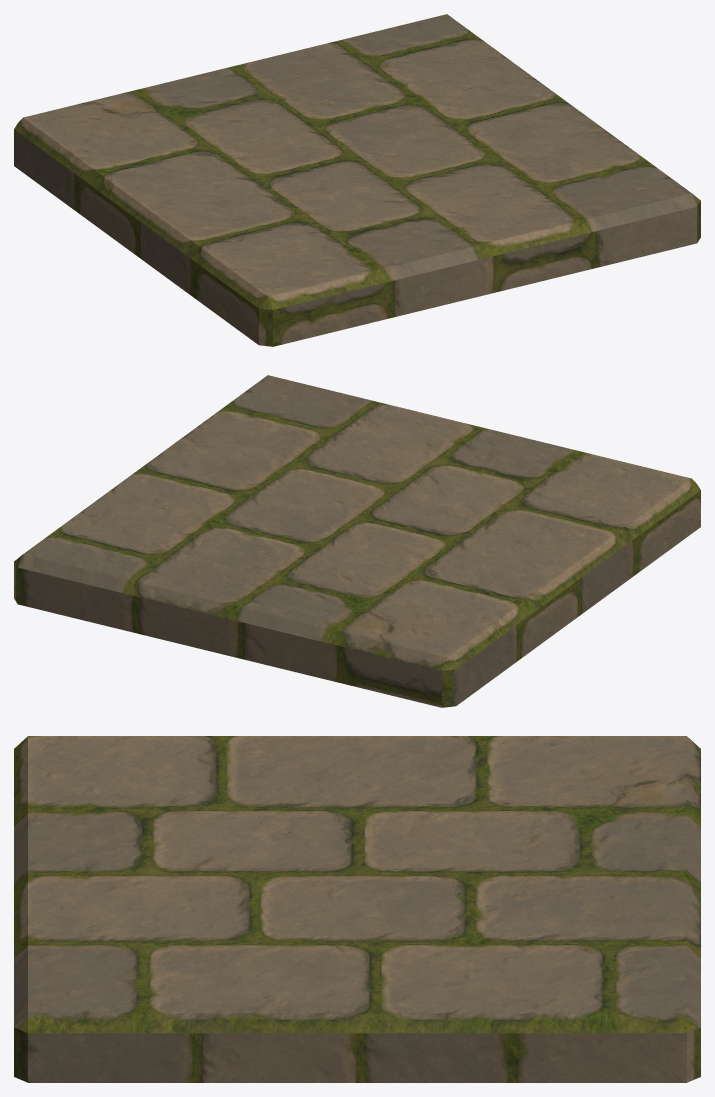
The model's file is dalle1.glb.
3 renders of one model, top to bottom at view 1: azimuth 30°, elevation 25°; view 2: azimuth 150°, elevation 25°; view 3: azimuth 270°, elevation 25°, orthographic. The views are drawn at different scales.
Visible parts, largest first — view 1: Cube; view 2: Cube; view 3: Cube.
Boxes of the visible parts, x1,y1,x2,y2 form: Cube: (14, 14, 700, 346); Cube: (14, 375, 700, 707); Cube: (14, 736, 700, 1082).
Size of the model in its own units: 2 by 0.2 by 2.
1 material, 1 textured.
